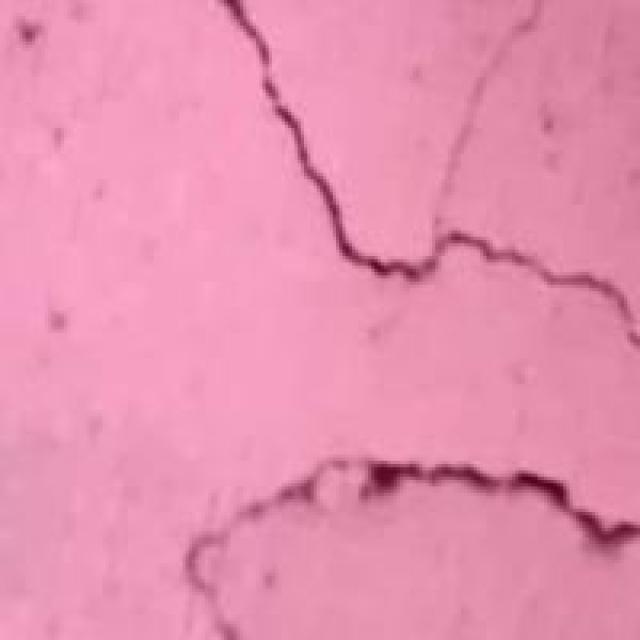crack: (208, 0, 637, 579)
